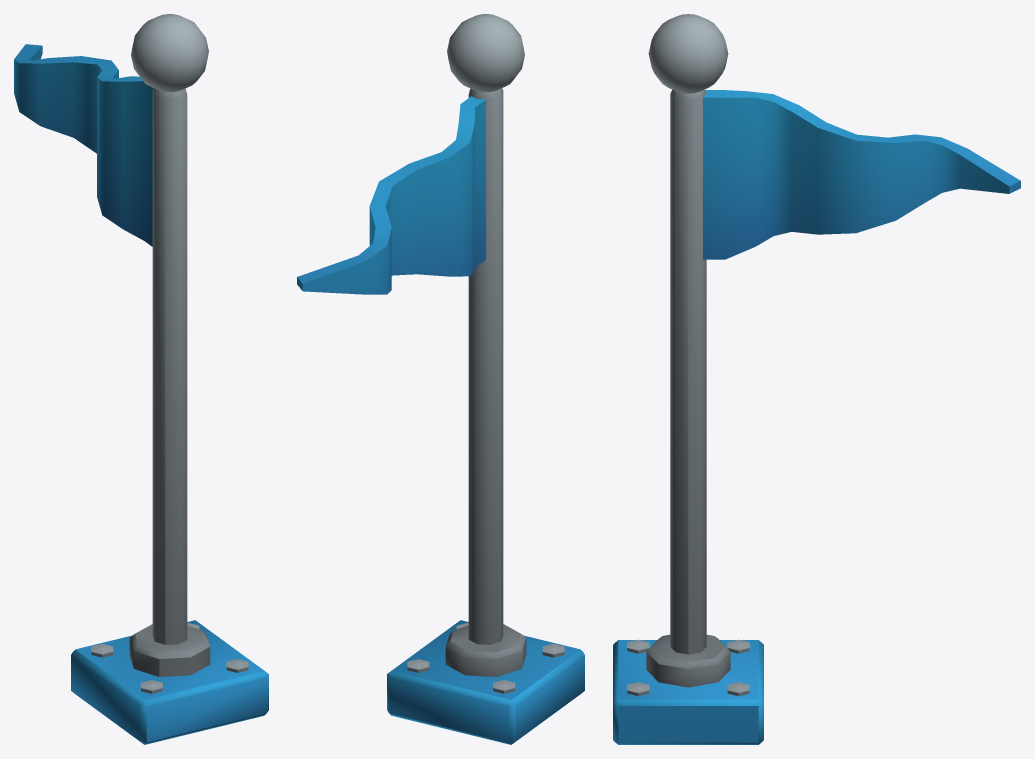
File: flag_B_blue.glb
The picture shows the model from 3 angles, left to right: view 1: azimuth 30°, elevation 25°; view 2: azimuth 150°, elevation 25°; view 3: azimuth 270°, elevation 25°; orthographic projection.
Visible parts, largest first — view 1: flag_B_blue; view 2: flag_B_blue; view 3: flag_B_blue.
Part boxes in pixels (x1,y1,x2,y2): flag_B_blue: (14,14,268,744); flag_B_blue: (297,14,584,744); flag_B_blue: (613,14,1020,744).
Bounding box in the file's own units: 0.6 × 3.06 × 1.62.
Materials: 1 (1 with a texture image).
